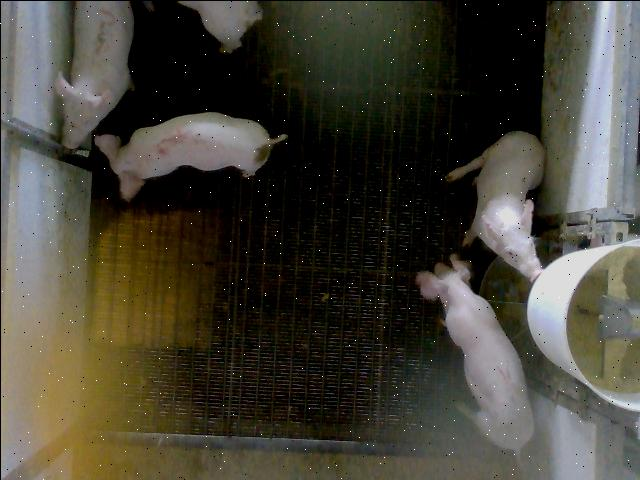pig-3: (54, 0, 132, 147)
